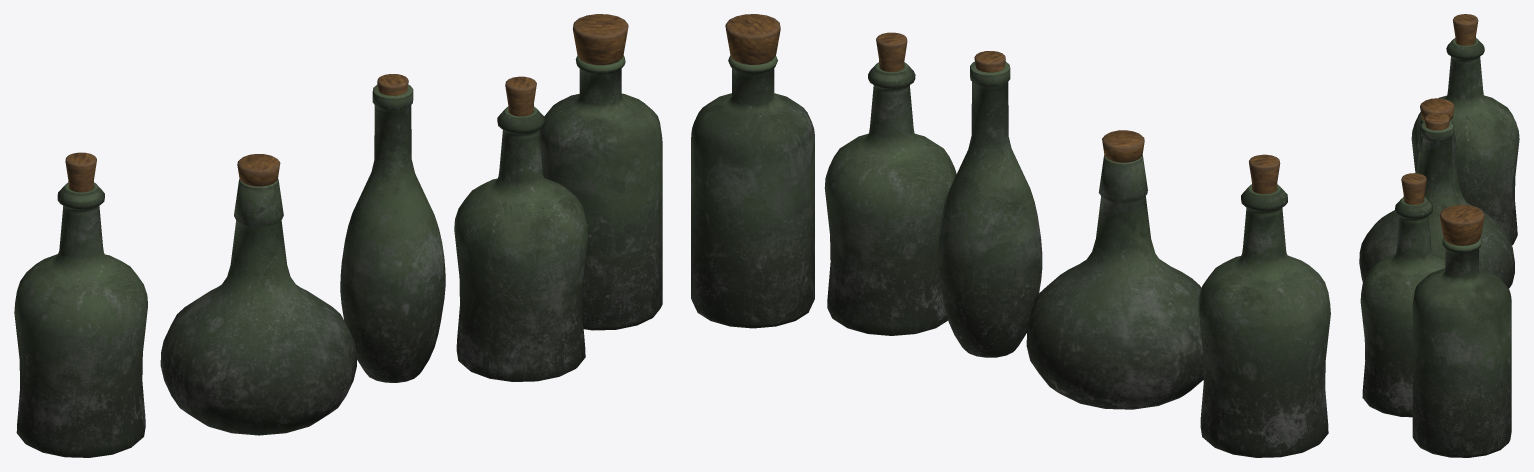
Rendered from Bottle_set_2.fbx.
3 views of the same model, side by side, from view 1: azimuth 30°, elevation 25°; view 2: azimuth 150°, elevation 25°; view 3: azimuth 270°, elevation 25° (orthographic). The views are drawn at different scales.
Visible parts, largest first — view 1: Bottle_set_2; view 2: Bottle_set_2; view 3: Bottle_set_2.
Part boxes in pixels (box(x1,y1,x2,y2)): Bottle_set_2: box(14, 14, 662, 457); Bottle_set_2: box(691, 14, 1330, 457); Bottle_set_2: box(1359, 14, 1519, 457).
Size of the model in its own units: 77.1 by 34.31 by 21.24.
